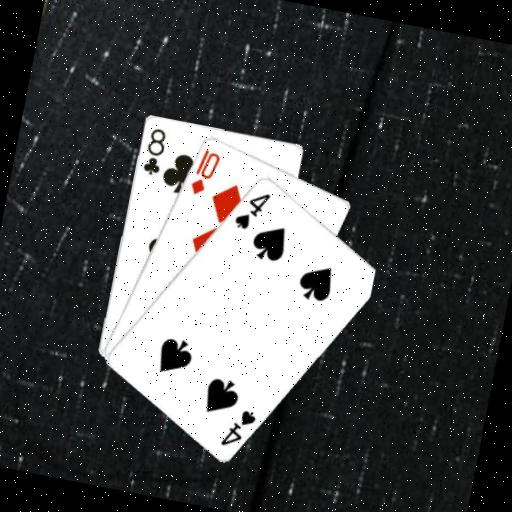10D: (185, 144, 223, 200)
4S: (230, 185, 273, 235), (217, 402, 260, 452)
8C: (138, 124, 169, 178)
